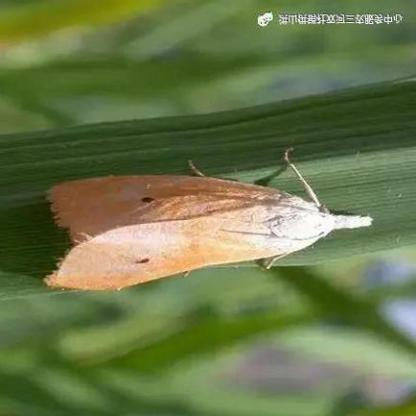stem-borer: (42, 164, 376, 295)
